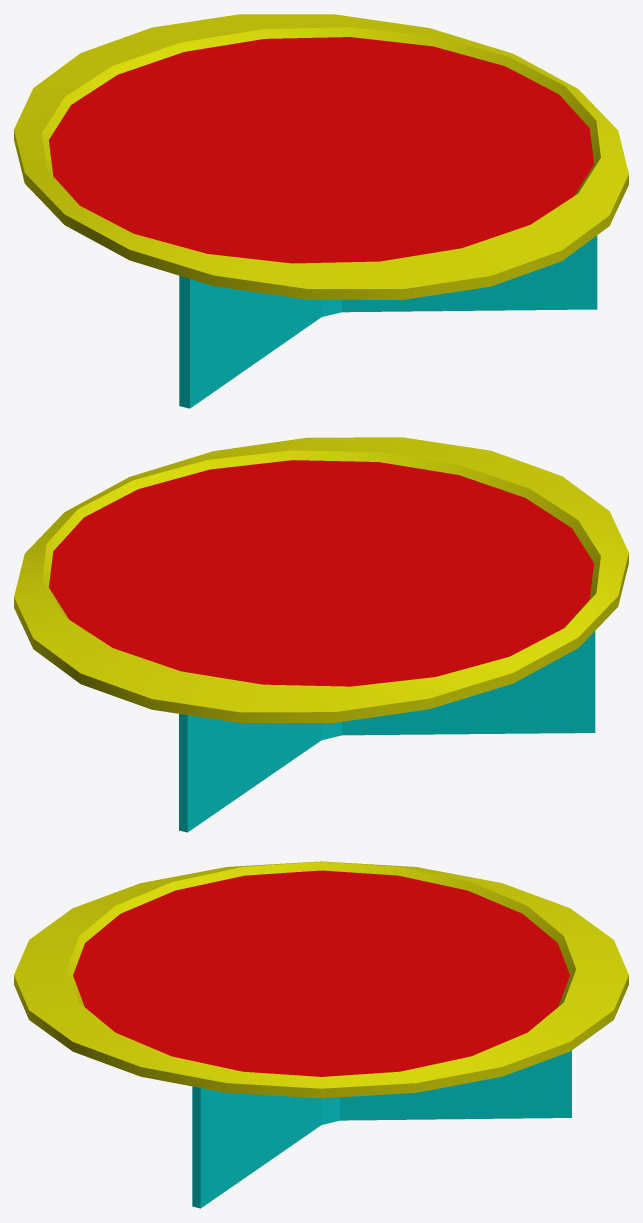
File: SM_Table.fbx
3 views of the same model, one above another, from view 1: azimuth 30°, elevation 25°; view 2: azimuth 150°, elevation 25°; view 3: azimuth 270°, elevation 25° (orthographic). The views are drawn at different scales.
Parts seen in each view (by area): view 1: pCylinder3; view 2: pCylinder3; view 3: pCylinder3.
Boxes of the visible parts, bbox=[...] form: pCylinder3: bbox=[14, 14, 628, 408]; pCylinder3: bbox=[14, 437, 628, 832]; pCylinder3: bbox=[14, 861, 628, 1208].
Bounding box in the file's own units: 11.79 × 3.55 × 13.48.
